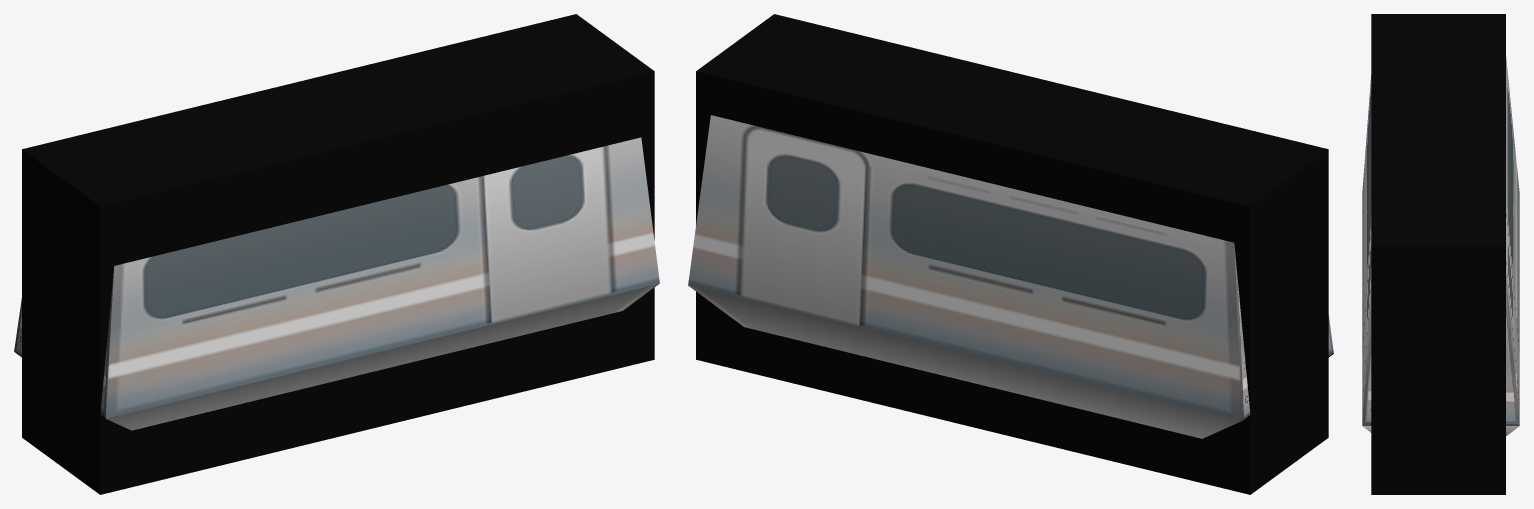
File: subwaytrain2.glb
The picture shows the model from 3 angles, left to right: view 1: azimuth 30°, elevation 25°; view 2: azimuth 150°, elevation 25°; view 3: azimuth 270°, elevation 25°; orthographic projection. The views are drawn at different scales.
Parts seen in each view (by area): view 1: trainCollide.004, train2; view 2: trainCollide.004, train2; view 3: trainCollide.004, train2.
Boxes of the visible parts, box(x1,y1,x2,y2) form: trainCollide.004: box(22, 14, 654, 494); train2: box(14, 137, 659, 430); trainCollide.004: box(696, 14, 1328, 494); train2: box(688, 115, 1333, 438); trainCollide.004: box(1371, 14, 1505, 494); train2: box(1362, 56, 1519, 436).
Size of the model in its own units: 14 by 7.03 by 4.
2 materials, 2 textured.
